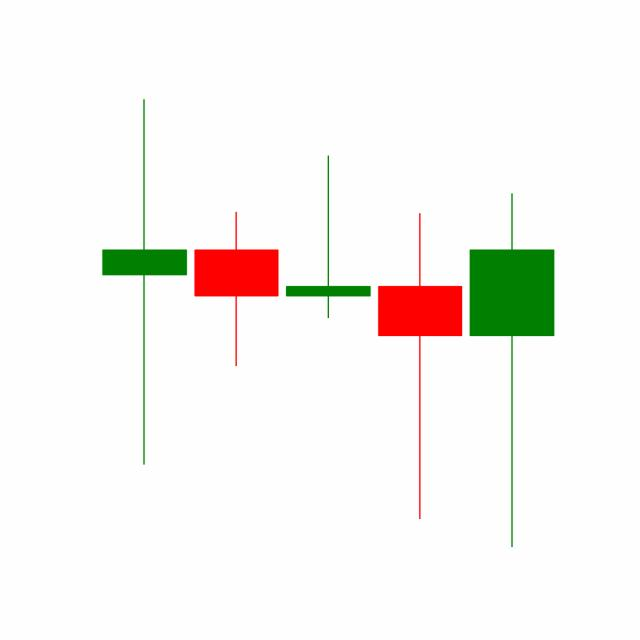Spinning Top: (373, 209, 467, 523)
